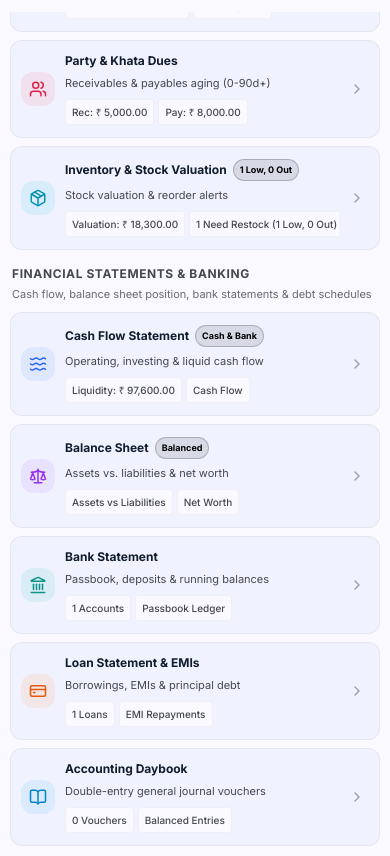
Reports Hub & Dedicated Pages Redesign Integration Suite (reportsHubView.test.tsx) › 6. Navigates to dedicated Balance Sheet page and verifies Balance invariant
What coordinates should you click on to do the following:
click the button with aria-label "Open Balance Sheet report"
I would click on:
 (195, 476)
Its box is x1=10 y1=424 x2=380 y2=528.
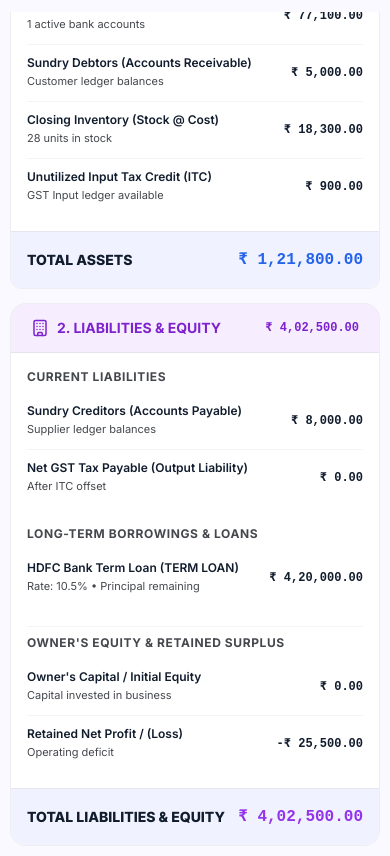
Expected: the text "2. LIABILITIES & EQUITY" is shown, x1=57 y1=318 x2=221 y2=338
Expected: the text "Closing Inventory" is shown, x1=27 y1=112 x2=219 y2=127
Expected: the text "Sundry Creditors" is shown, x1=27 y1=403 x2=242 y2=418
